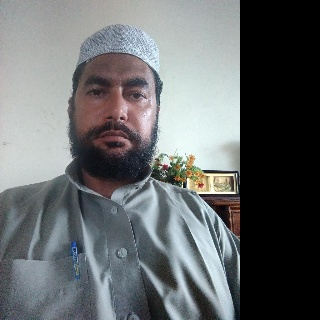without_mask: (73, 53, 157, 160)
